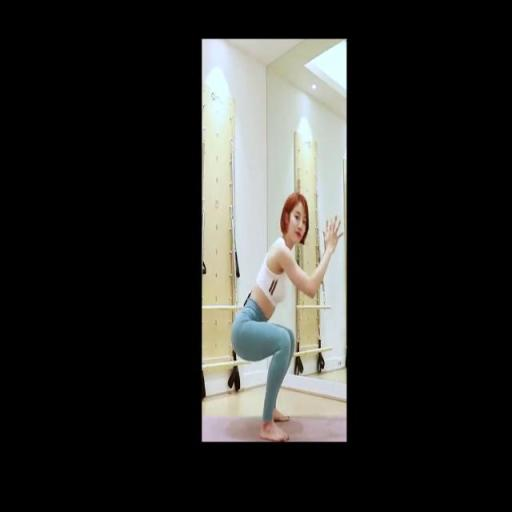Normal_BrenchPress: (228, 192, 343, 443)
